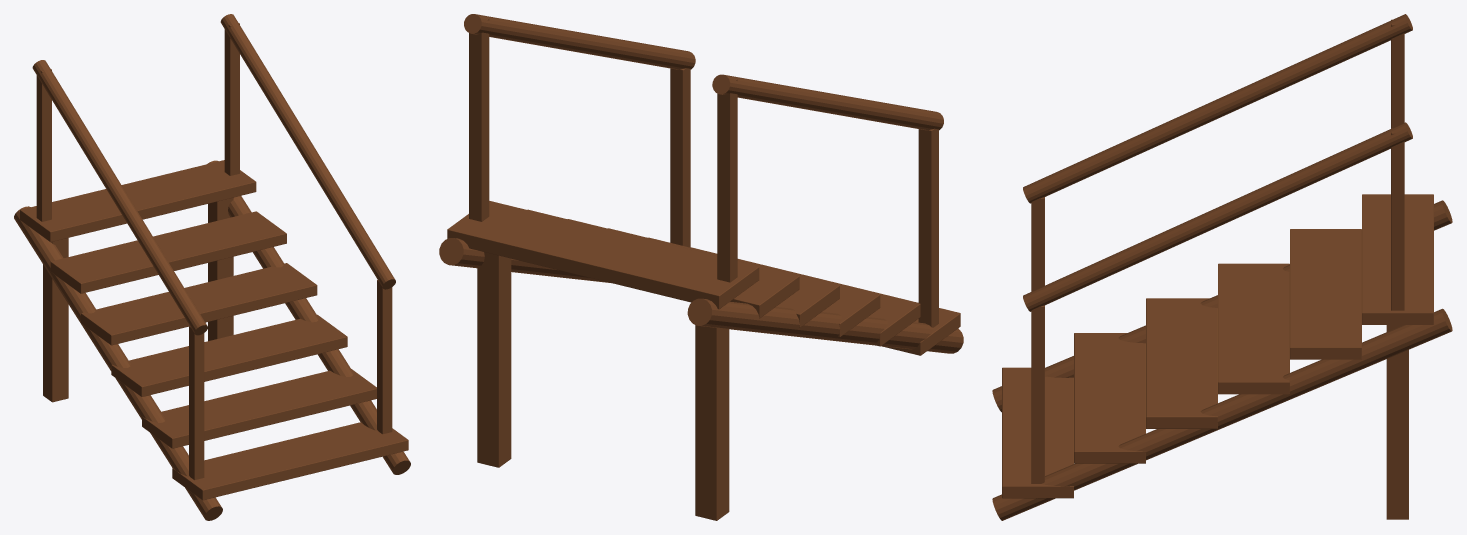
The model's file is kampung-house-staircase.glb.
The picture shows the model from 3 angles, left to right: view 1: azimuth 30°, elevation 25°; view 2: azimuth 150°, elevation 25°; view 3: azimuth 270°, elevation 25°; orthographic projection. The views are drawn at different scales.
Visible parts, largest first — view 1: Tread_4, Tread_3, Tread_0, Tread_2, Tread_1, Tread_5, Handrail, Handrail.001, Stringer, Support, Stringer.001, Railing_Post.002 (+4 smaller); view 2: Tread_5, Support.001, Support, Stringer, Handrail, Handrail.001, Railing_Post, Railing_Post.003, Railing_Post.001, Railing_Post.002, Tread_4, Tread_3 (+4 smaller); view 3: Tread_3, Tread_4, Stringer.001, Tread_2, Tread_1, Tread_5, Handrail.001, Handrail, Tread_0, Support.001, Railing_Post.002, Railing_Post.003 (+3 smaller).
Boxes of the visible parts, left/top/right/bottom form: Tread_4: left=50, top=211, right=286, bottom=293; Tread_3: left=81, top=263, right=317, bottom=345; Tread_0: left=172, top=422, right=408, bottom=500; Tread_2: left=111, top=314, right=347, bottom=396; Tread_1: left=142, top=369, right=376, bottom=448; Tread_5: left=20, top=160, right=256, bottom=242; Handrail: left=32, top=60, right=207, bottom=335; Handrail.001: left=220, top=14, right=395, bottom=289; Stringer: left=14, top=206, right=222, bottom=520; Support: left=43, top=238, right=68, bottom=402; Stringer.001: left=207, top=160, right=410, bottom=474; Railing_Post.002: left=377, top=280, right=392, bottom=434; Tread_5: left=447, top=201, right=759, bottom=309; Support.001: left=477, top=252, right=511, bottom=467; Support: left=695, top=325, right=729, bottom=520; Stringer: left=687, top=298, right=963, bottom=353; Handrail: left=712, top=74, right=943, bottom=130; Handrail.001: left=464, top=14, right=695, bottom=69; Railing_Post: left=918, top=128, right=938, bottom=327; Railing_Post.003: left=469, top=17, right=489, bottom=221; Railing_Post.001: left=717, top=78, right=737, bottom=282; Railing_Post.002: left=670, top=68, right=690, bottom=247; Tread_4: left=527, top=209, right=799, bottom=318; Tread_3: left=567, top=219, right=839, bottom=327; Tread_3: left=1218, top=263, right=1289, bottom=394; Tread_4: left=1290, top=229, right=1361, bottom=359; Stringer.001: left=992, top=308, right=1452, bottom=520; Tread_2: left=1146, top=298, right=1217, bottom=428; Tread_1: left=1074, top=333, right=1145, bottom=463; Tread_5: left=1362, top=194, right=1433, bottom=324; Handrail.001: left=1023, top=122, right=1412, bottom=311; Handrail: left=1023, top=14, right=1412, bottom=203; Tread_0: left=1002, top=367, right=1073, bottom=498; Support.001: left=1386, top=325, right=1408, bottom=519; Railing_Post.002: left=1031, top=305, right=1044, bottom=483; Railing_Post.003: left=1391, top=128, right=1404, bottom=310.
Bounding box in the file's own units: 1.25 × 1.96 × 2.05.
